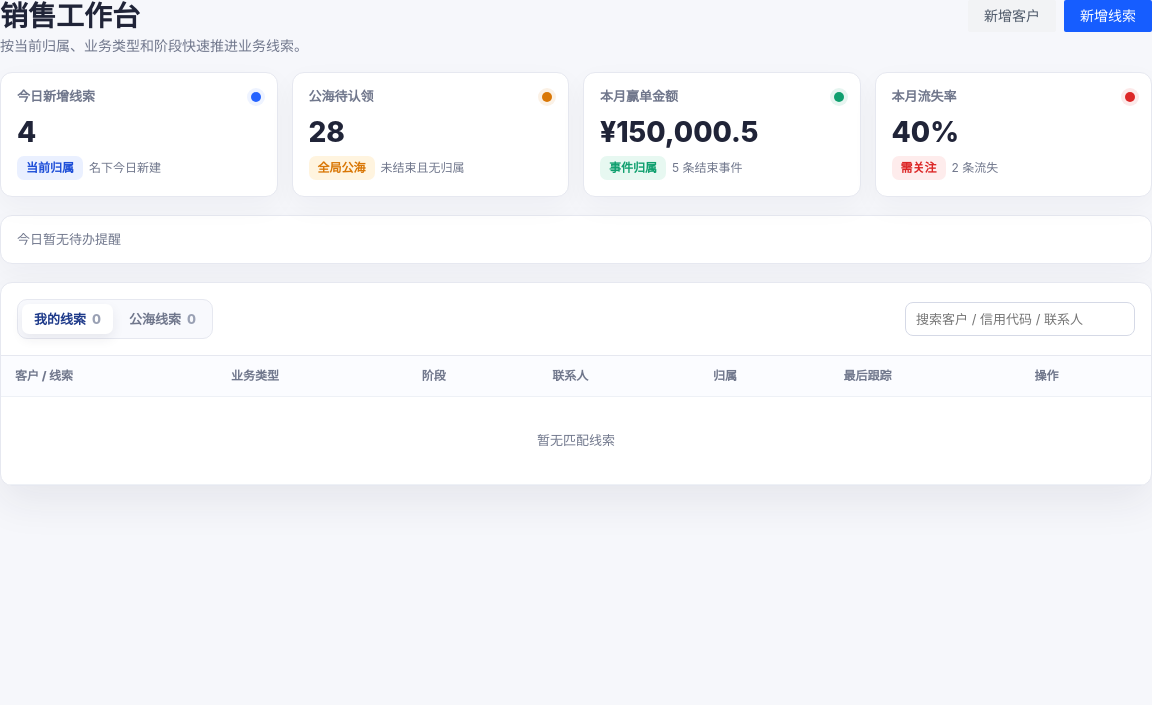
it: SALES 公海抽屉脱敏只读（refine pool drawer） › SALES 点公海线索抽屉显示脱敏电话且不调明文详情端点
Click the button with class "tab" showing "公海线索 0" at (162,319), box top-left (117, 304), bottom-right (208, 334)
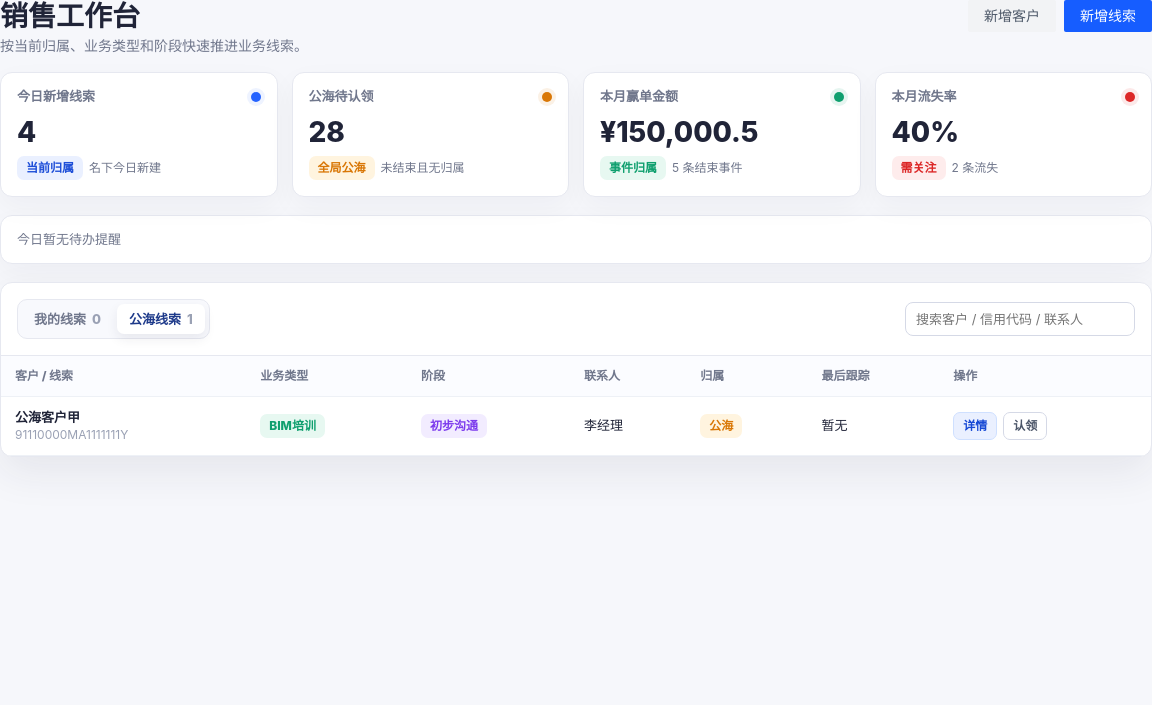
Click the button with class "lead-link" at (72,426), box top-left (15, 410), bottom-right (128, 442)
(page scrolled)
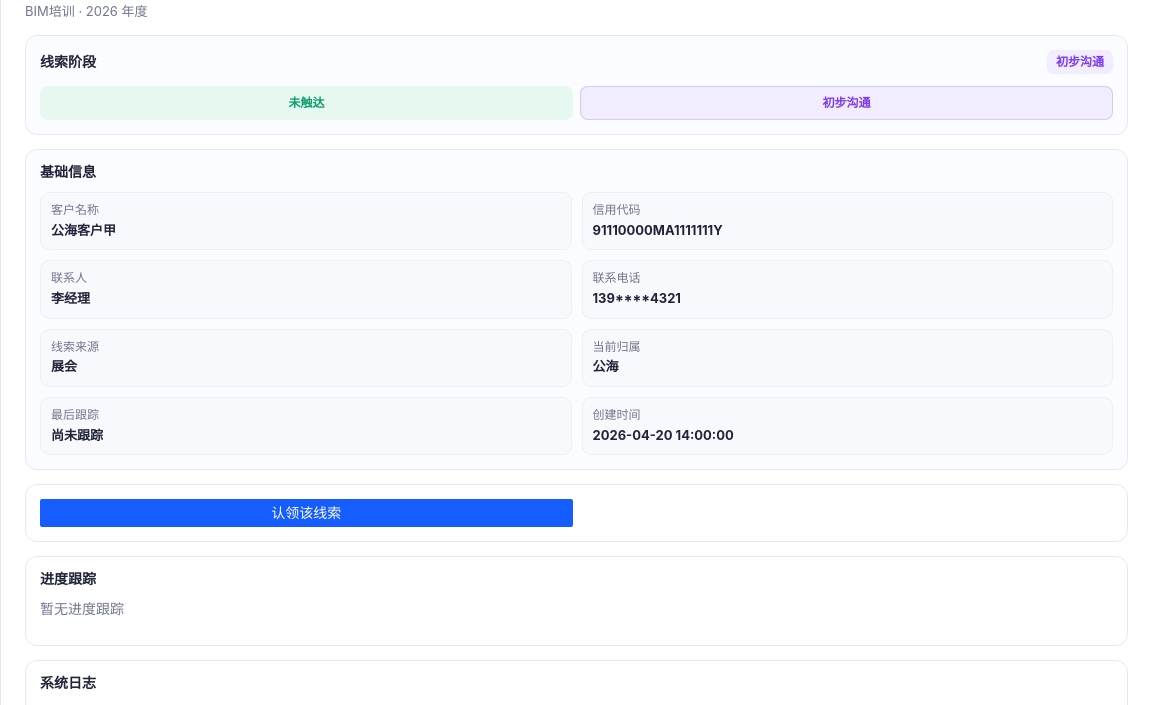
Expected: the element with test id "lead-drawer" shows "139****4321", top-left (592, 290), bottom-right (681, 306)
